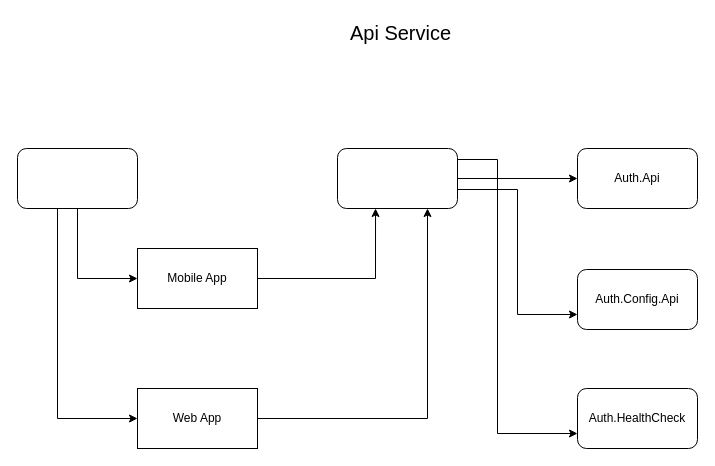
The diagram is 715 pixels wide and 466 high, and some of its shapes have lost their labels. The shapes that lost their labels are listed below. From the top down, each one's box as (x1, y1, x2, y2) in pixels, then its label:
(16, 148, 138, 208): Client apps
(336, 148, 458, 208): Auth.Gateway.Api
